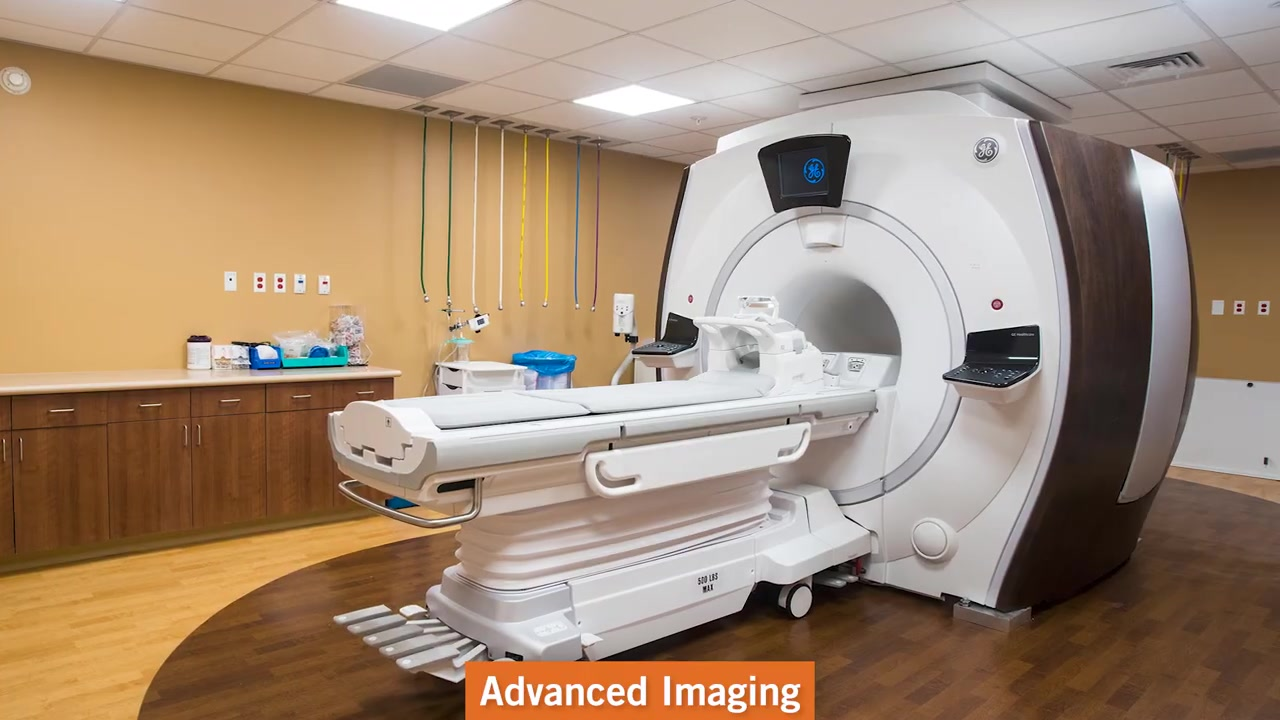counter: (1, 363, 396, 566)
countertop: (1, 363, 404, 396)
handle: (47, 406, 76, 415), (17, 436, 25, 463), (182, 424, 189, 448), (138, 403, 163, 409), (219, 398, 241, 404), (196, 424, 202, 446), (1, 438, 6, 463), (291, 394, 312, 399)
medical_drawer: (432, 360, 529, 397)
waste_bin: (512, 348, 579, 388)
xray_bed: (326, 368, 878, 529)
xray_machine: (641, 103, 1207, 628)
